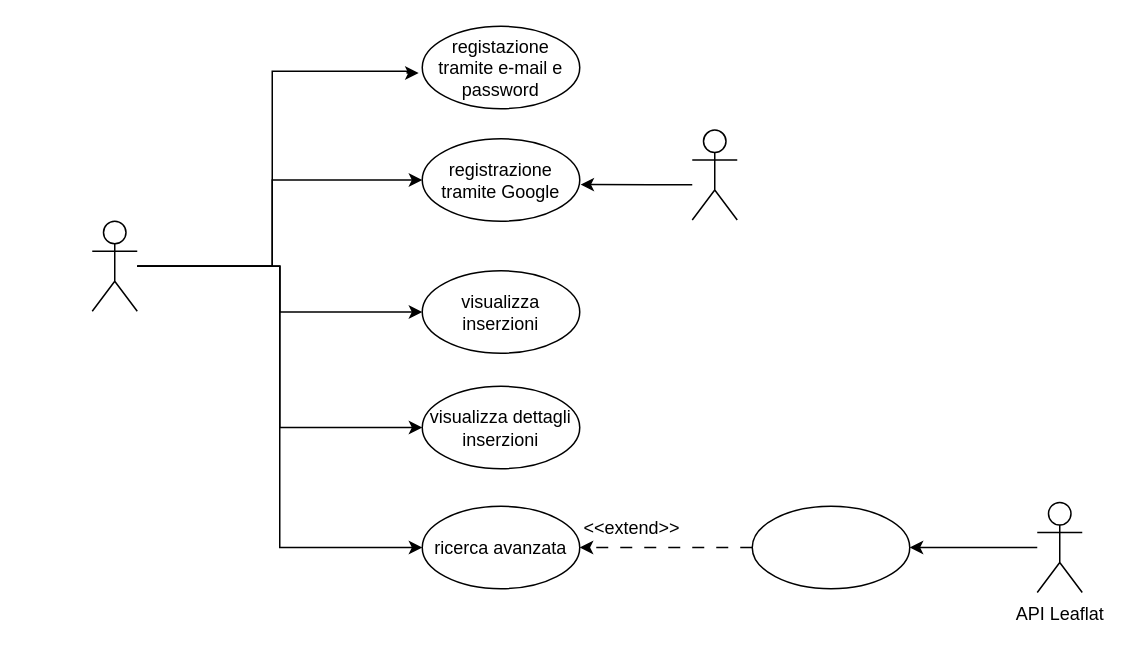
This 1130x650 diagram has some shape labels left out. The centre of each missing label's shape, as x and y in pixels:
"API Google" belongs at pixel 714 174.
"Utente Non Registrato" belongs at pixel 114 265.
"visualizza posizione immobile" belongs at pixel 830 547.
